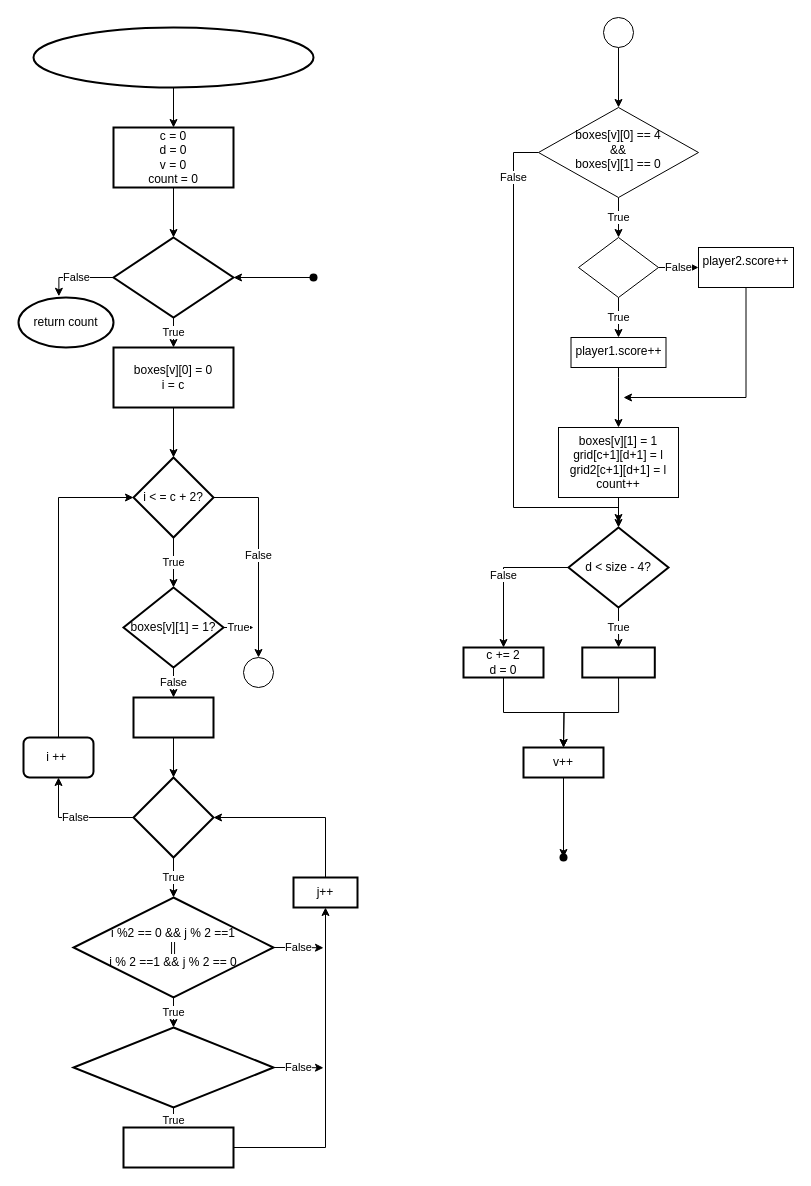
Image size: 811x1186. Some labels were removed from this diagram. Each missing label, with the centre of its shape:
"boxes[v][0] ++" goes at (x=178, y=1147).
"checkBox (grid, grid2, n, boxes, l, comp, movesPlayed, moves)" goes at (x=173, y=57).
"d += 2" goes at (x=618, y=662).
"grid[i][j] == 'A' || grid[i][j] == 'B'" goes at (x=173, y=1067).
"j <= d + 2?" goes at (x=173, y=817).
"j = d" goes at (x=173, y=717).
"l == 'A'?" goes at (x=618, y=267).
"v < n*n ?" goes at (x=173, y=277).
